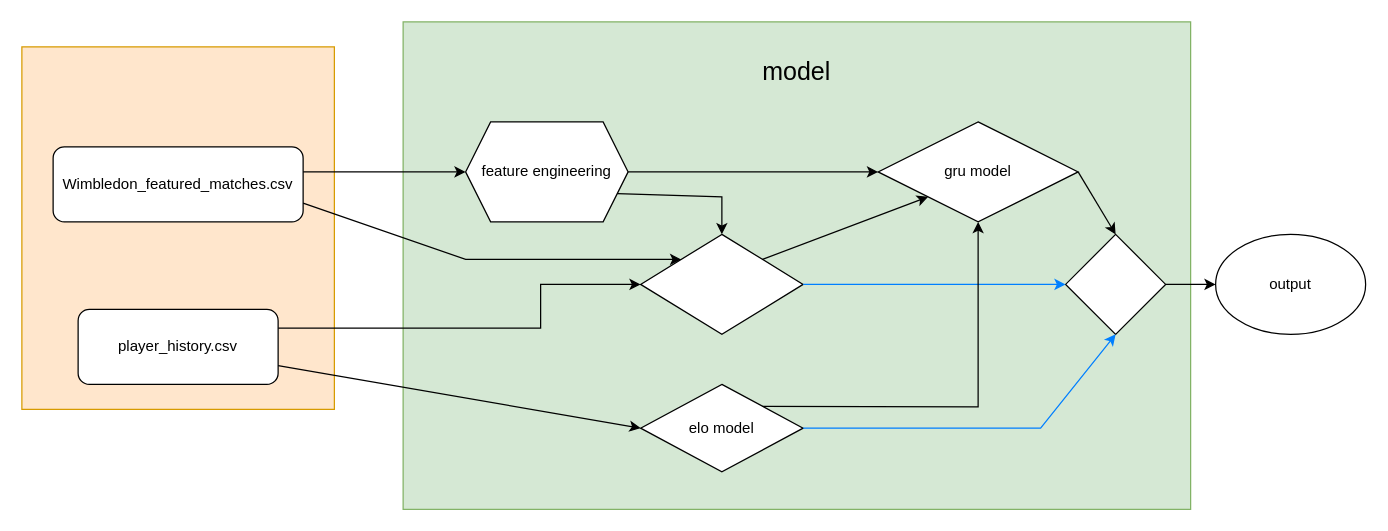
This 1388x531 diagram has some shape labels left out. Each missing label, with the box of its shape:
input: (21, 46, 334, 409)
quality model: (639, 233, 803, 334)
集成: (1064, 233, 1166, 334)
